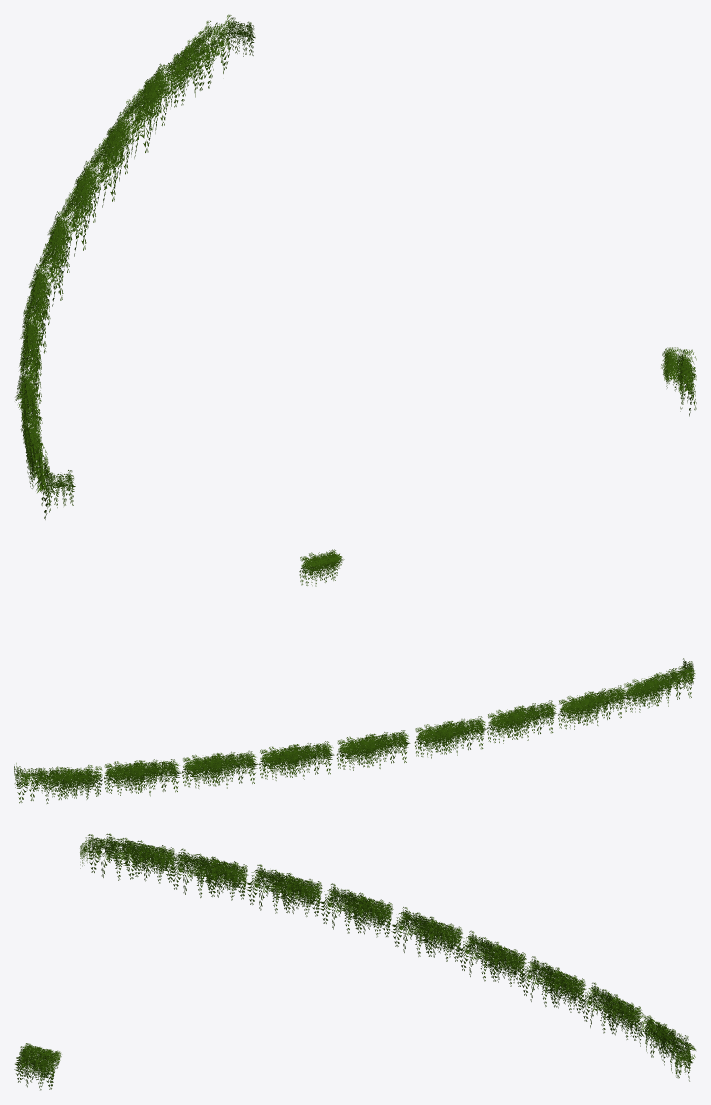
Rendered from Ivy05_Web.glb.
3 renders of one model, top to bottom at view 1: azimuth 30°, elevation 25°; view 2: azimuth 150°, elevation 25°; view 3: azimuth 270°, elevation 25°, orthographic. The views are drawn at different scales.
Visible parts, largest first — view 1: Ivy03.004; view 2: Ivy03.004; view 3: Ivy03.004.
Boxes of the visible parts, x1,y1,x2,y2 form: Ivy03.004: [15, 14, 696, 519]; Ivy03.004: [14, 549, 695, 803]; Ivy03.004: [14, 833, 695, 1090].
Bounding box in the file's own units: 28.65 × 2.83 × 37.48.
